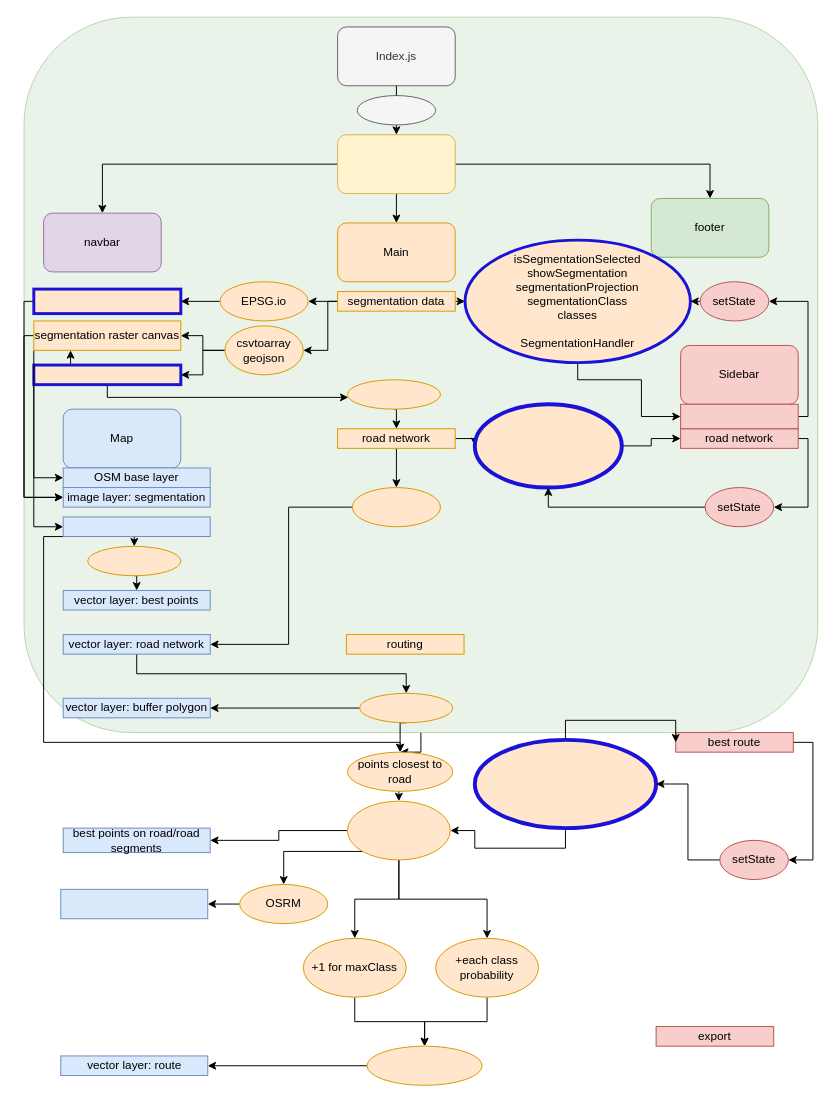
The diagram is 838 pixels wide and 1103 high, and some of its shapes have lost their labels. The centre of each missing label's shape, as x and y in pixels:
"AOC/reinforcement learning" belongs at (424,1065).
"App" belongs at (396,164).
"best Points or max score? start/endpoint max length conditions?" belongs at (565,783).
"buffer, r=cellsize" belongs at (406,707).
"extent, zoom, center" belongs at (107,374).
"filter best points" belongs at (134,560).
"isRoadLoaded showRoadNetwork roadTypes roadNetworkHandler" belongs at (547,445).
"osm2geojson roadtypes" belongs at (396,507).
"overpass-api.de" belongs at (393,394).
"projection" belongs at (107,301).
"renders" belongs at (396,110).
"score best points on road/ road segments" belongs at (398,830).
"segmentation" belongs at (739,416).
"vector layer: route best points" belongs at (134,903).
"vector layer: segmentation" belongs at (136,526).
